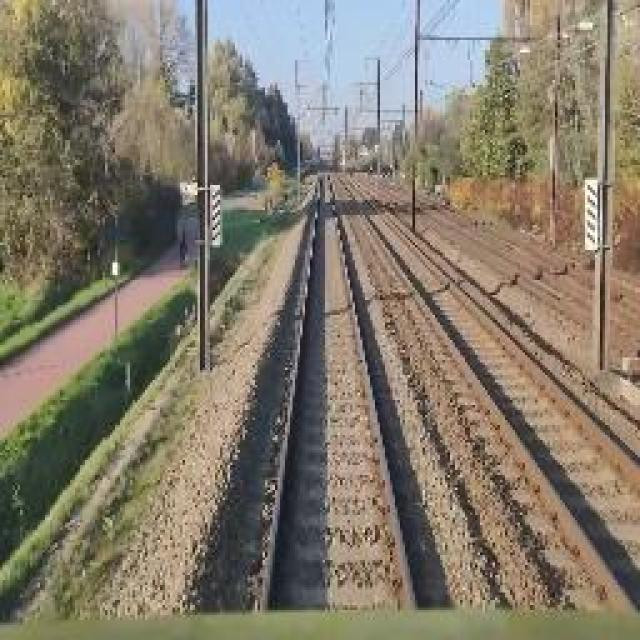rail: (331, 170, 640, 616), (209, 169, 452, 614), (355, 172, 640, 393)
